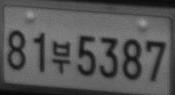1: (30, 32, 51, 73)
3: (98, 36, 118, 78)
5: (77, 35, 96, 76)
7: (144, 40, 166, 82)
8: (121, 37, 142, 80), (6, 29, 26, 70)
부: (51, 40, 71, 75)
